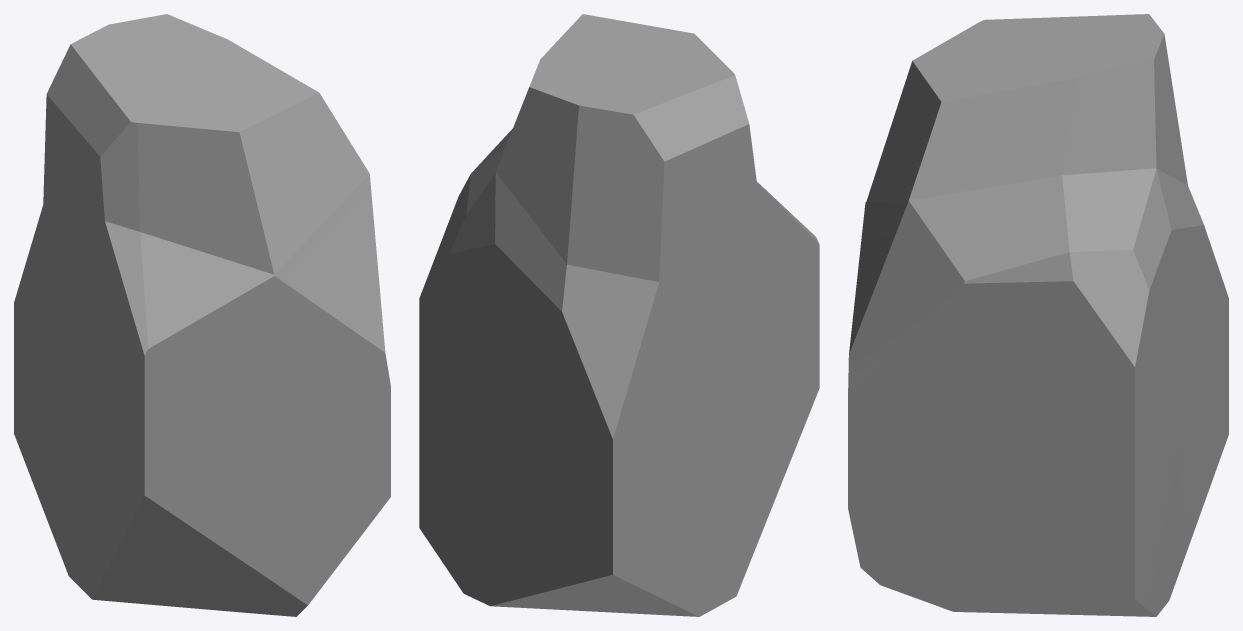
Rendered from HardRock_01.fbx.
The picture shows the model from 3 angles, left to right: view 1: azimuth 30°, elevation 25°; view 2: azimuth 150°, elevation 25°; view 3: azimuth 270°, elevation 25°; orthographic projection. The views are drawn at different scales.
Parts seen in each view (by area): view 1: HardRock_01; view 2: HardRock_01; view 3: HardRock_01.
Part boxes in pixels (x1,y1,x2,y2): HardRock_01: (14, 14, 390, 616); HardRock_01: (419, 14, 819, 616); HardRock_01: (848, 14, 1228, 616).
Size of the model in its own units: 64.54 by 117 by 76.53.
